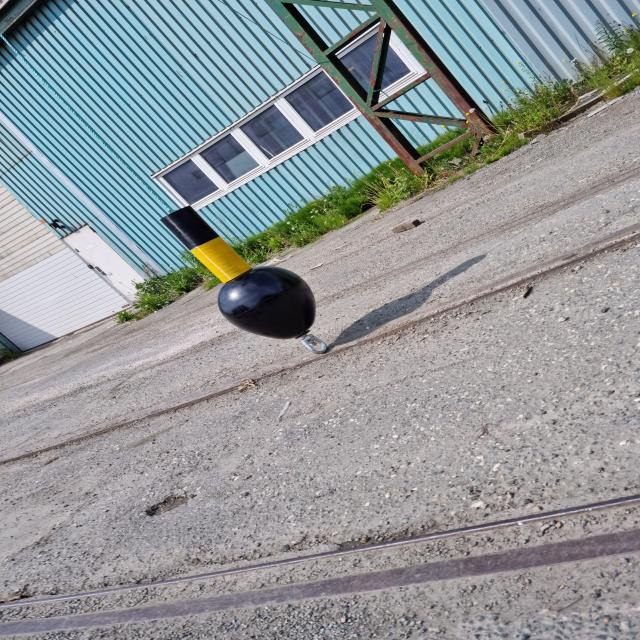east: (162, 205, 318, 342)
